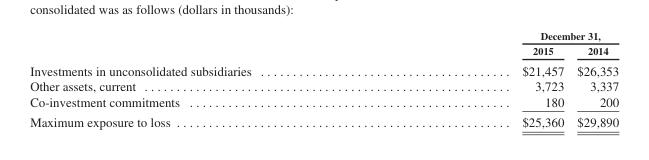table: (29, 28, 618, 129)
table column: (29, 28, 386, 129), (386, 28, 569, 129), (569, 28, 618, 129)
table column header: (29, 28, 618, 59)
table row: (29, 59, 618, 78), (29, 93, 618, 111), (29, 111, 618, 129), (29, 42, 618, 59), (29, 78, 618, 93), (29, 28, 618, 42)
table spanning cell: (386, 28, 618, 42)
